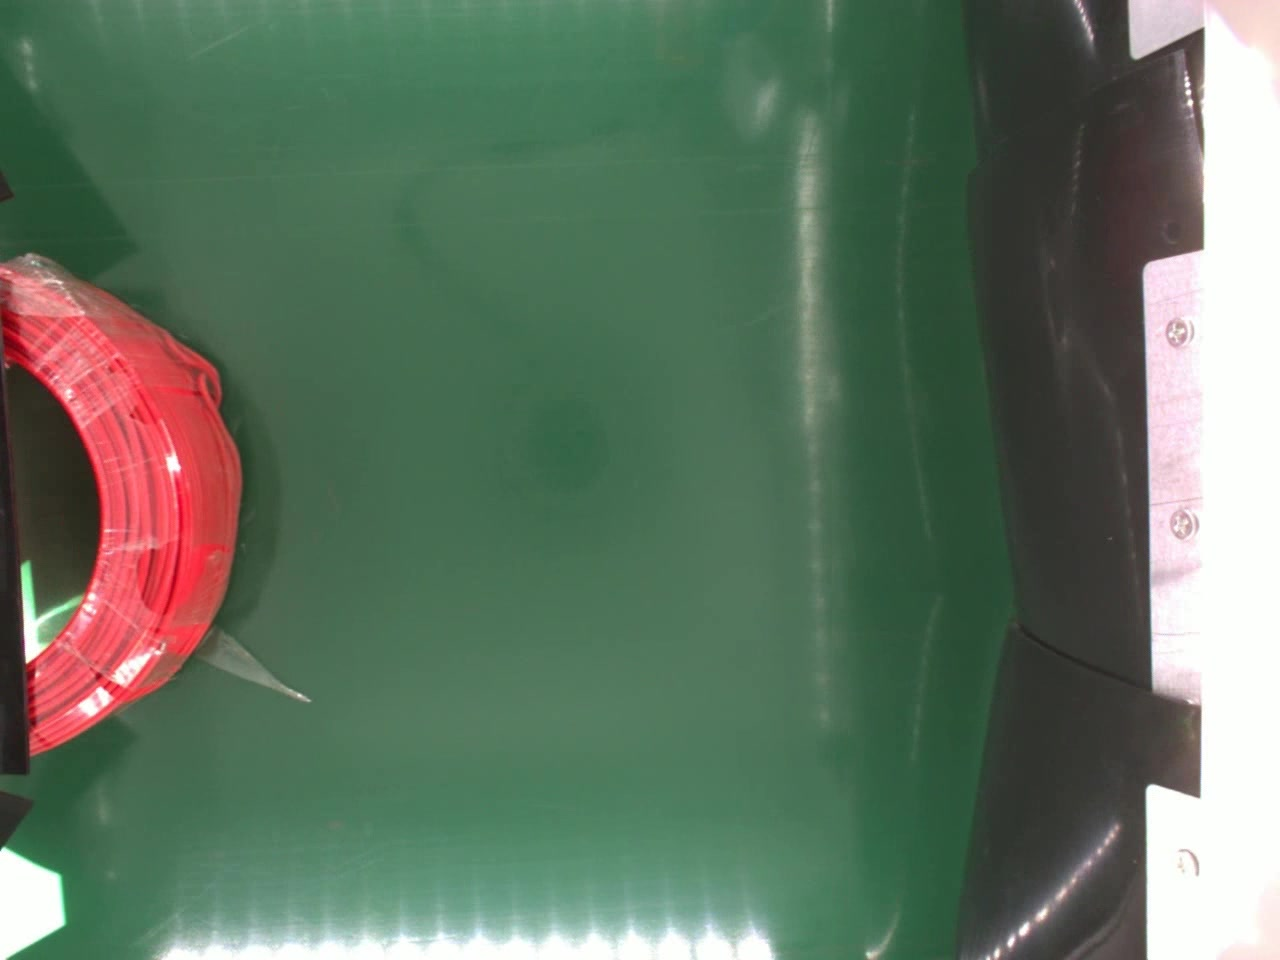red: (0, 255, 251, 751)
